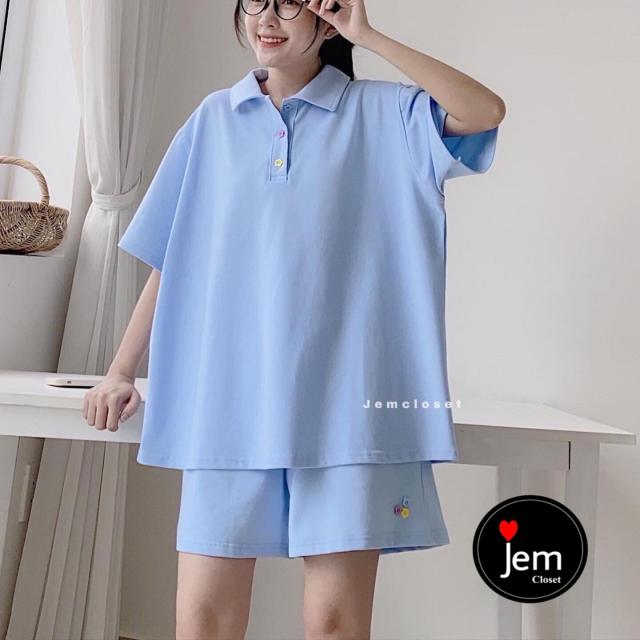clothes: (124, 67, 505, 560)
